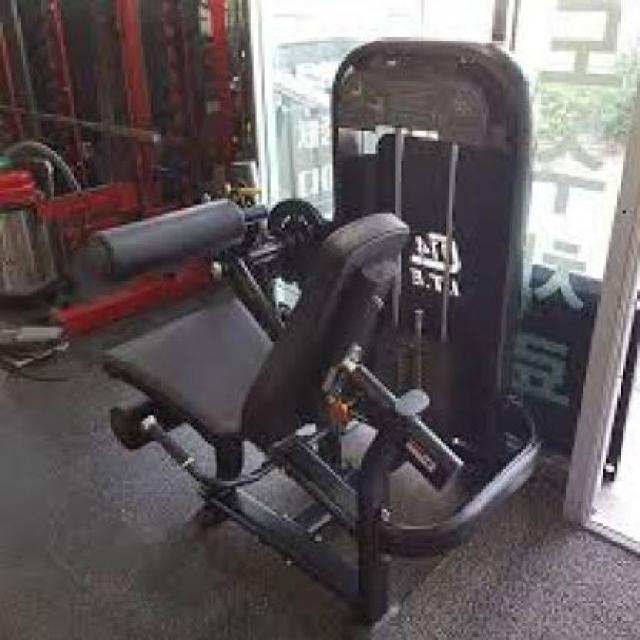leg extension: (64, 27, 566, 640)
